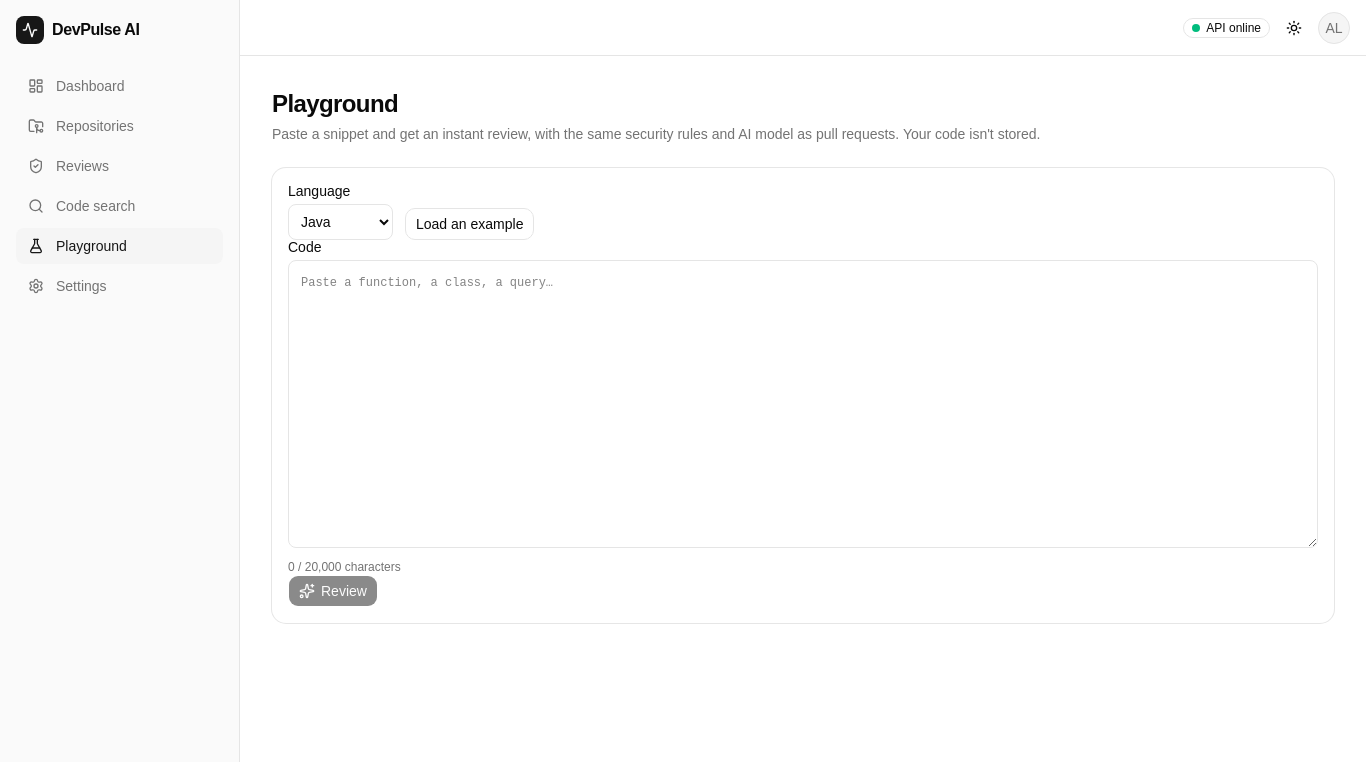
Test case: Playground › reviews a snippet and shows each finding under its line
Click the button "Load an example". click: click(470, 224)
box: [405,208,534,240]
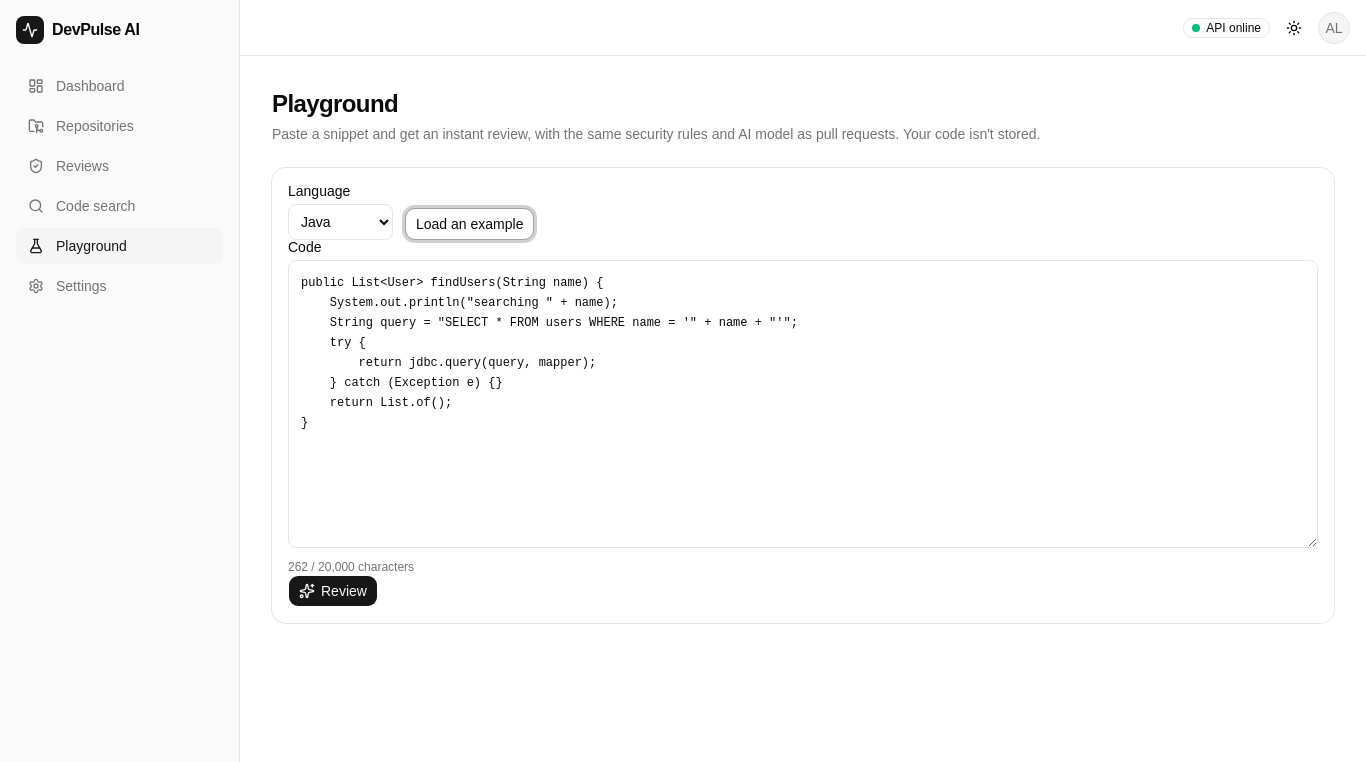
Click the button "Review". click: click(333, 591)
box: [288,575,378,607]
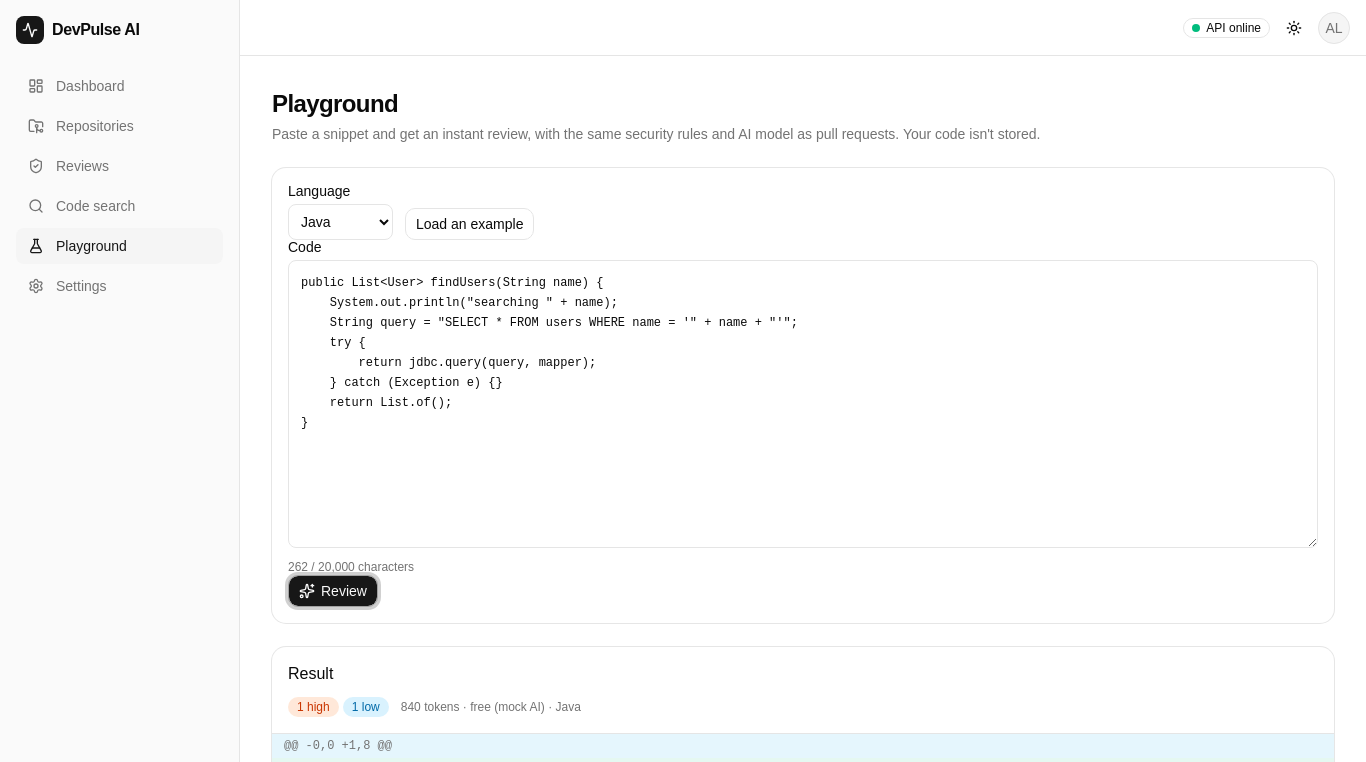
Result: the text "840 tokens · free (mock AI) · Java" is shown at [401,699,581,715]
